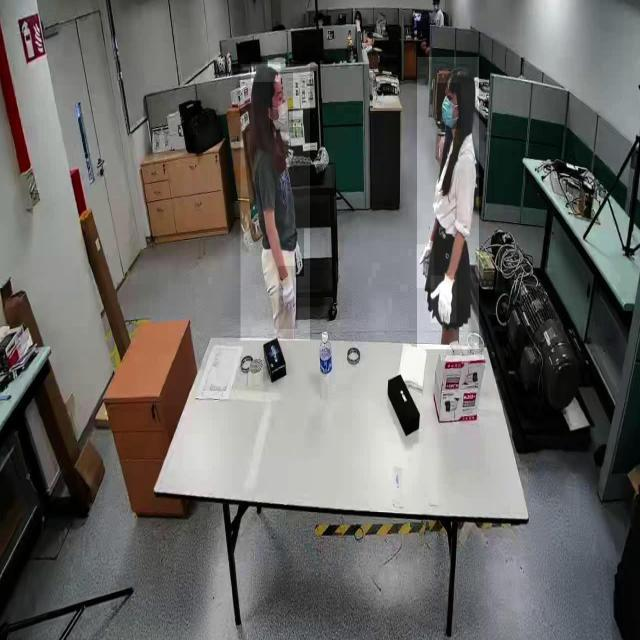gloves: (430, 276, 458, 324), (278, 266, 298, 330), (416, 244, 434, 289), (294, 228, 304, 278)
